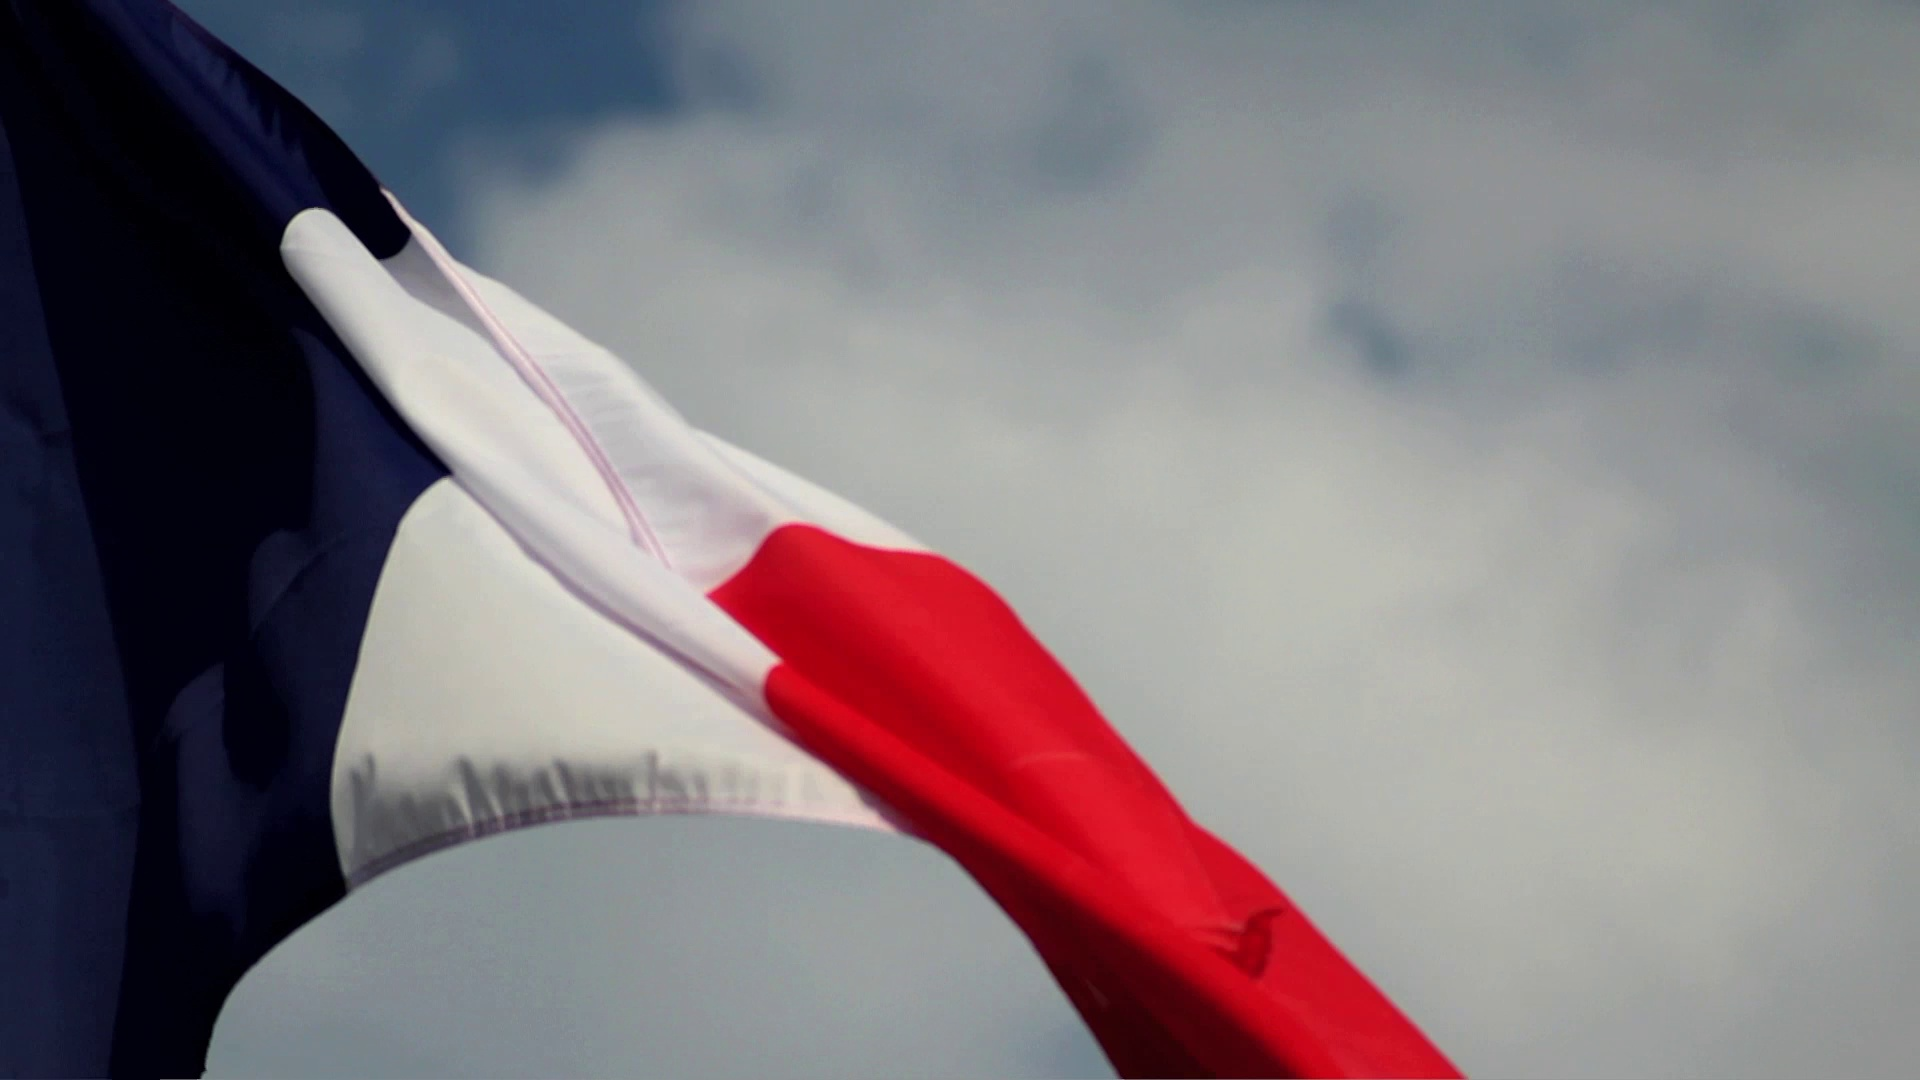French Flag: (7, 7, 1462, 1080)
